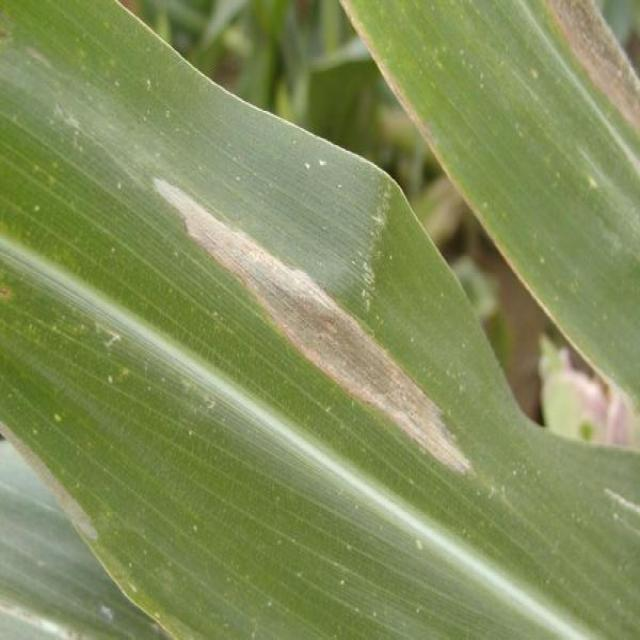blight: (150, 153, 473, 479)
